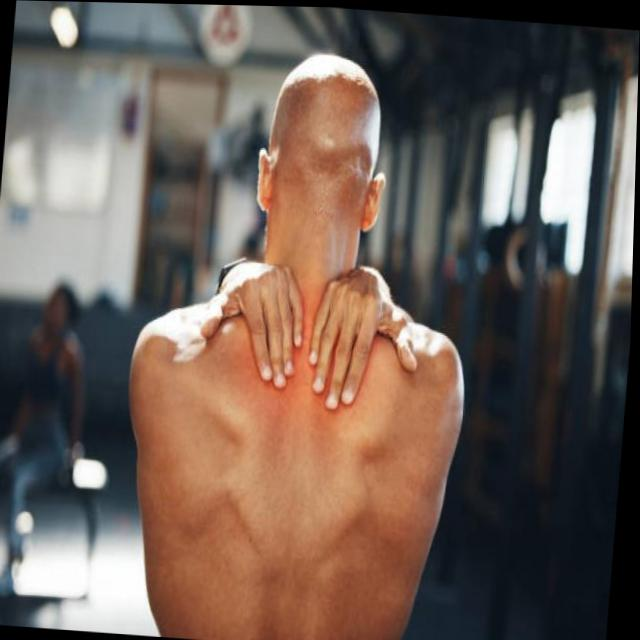no helmet: (262, 56, 391, 250)
